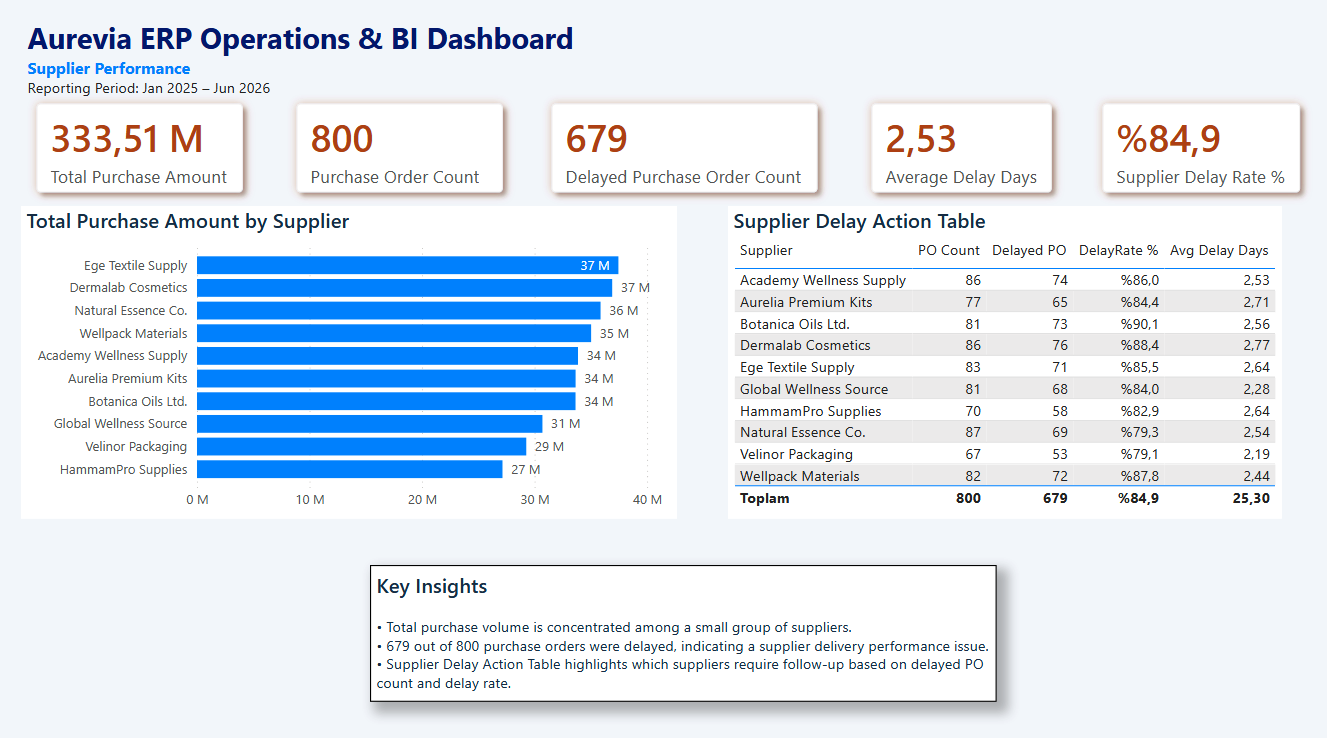

What the dashboard file says about the page in this screenshot:
{"tool":"powerbi","page":{"name":"Supplier Performance","canvas":[1280,720],"ordinal":5},"visuals":[{"type":"textbox","title":"Aurevia ERP Operations & BI Dashboard Executive Overview","box":[36.6,39.4,825.2,90.1],"z":0},{"type":"cardVisual","fields":{"Data":["Sum(vw_SupplierPerformance.PurchaseOrderCount)"]},"box":[260,95,248,140.1],"z":0,"group":"g1"},{"type":"group","id":"g1","title":"Grup 1","box":[21,95,1222,140.1],"z":1000},{"type":"cardVisual","fields":{"Data":["Sum(vw_SupplierPerformance.TotalPurchaseAmount)"]},"box":[21,95,248.3,140.1],"z":1000,"group":"g1"},{"type":"clusteredBarChart","title":"Total Purchase Amount by Supplier","fields":{"Category":["vw_SupplierPerformance.SupplierName"],"Y":["Sum(vw_SupplierPerformance.TotalPurchaseAmount)"]},"box":[35.9,218.2,604,288.2],"z":1001},{"type":"tableEx","title":"Supplier Delay Action Table","fields":{"Values":["vw_SupplierPerformance.SupplierName","Sum(vw_SupplierPerformance.PurchaseOrderCount)","Sum(vw_SupplierPerformance.DelayedPurchaseOrderCount)","vw_SupplierPerformance.Supplier Delay Rate %","Sum(vw_SupplierPerformance.AverageDelayDays)"]},"box":[686.9,218.2,510.1,288],"z":1002},{"type":"textbox","box":[357.2,548.7,577.3,126.1],"z":1003},{"type":"cardVisual","fields":{"Data":["Avg(vw_SupplierPerformance.AverageDelayDays)"]},"box":[790,95,224.3,140.1],"z":2000,"group":"g1"},{"type":"cardVisual","fields":{"Data":["Sum(vw_SupplierPerformance.DelayedPurchaseOrderCount)"]},"box":[495,95,303.3,140.1],"z":3000,"group":"g1"},{"type":"cardVisual","fields":{"Data":["vw_SupplierPerformance.Supplier Delay Rate %"]},"box":[1002.7,95,240.3,140.1],"z":4000,"group":"g1"}]}

Visuals, with their boxes in screenshot pixels (x1, y1, x2, y2), scaled from the page's 1280x720 canvas onto the 1327x738 screenshot:
"Aurevia ERP Operations & BI Dashboard Executive Overview" textbox: locate(38, 40, 893, 133)
cardVisual - Sum(vw_SupplierPerformance.PurchaseOrderCount): locate(270, 97, 527, 241)
"Grup 1" group: locate(22, 97, 1289, 241)
cardVisual - Sum(vw_SupplierPerformance.TotalPurchaseAmount): locate(22, 97, 279, 241)
"Total Purchase Amount by Supplier" clusteredBarChart: locate(37, 224, 663, 519)
"Supplier Delay Action Table" tableEx: locate(712, 224, 1241, 519)
textbox: locate(370, 562, 969, 692)
cardVisual - Avg(vw_SupplierPerformance.AverageDelayDays): locate(819, 97, 1052, 241)
cardVisual - Sum(vw_SupplierPerformance.DelayedPurchaseOrderCount): locate(513, 97, 828, 241)
cardVisual - vw_SupplierPerformance.Supplier Delay Rate %: locate(1040, 97, 1289, 241)
